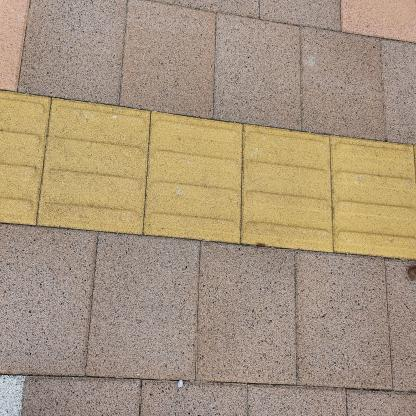podotacti: (0, 81, 415, 269)
